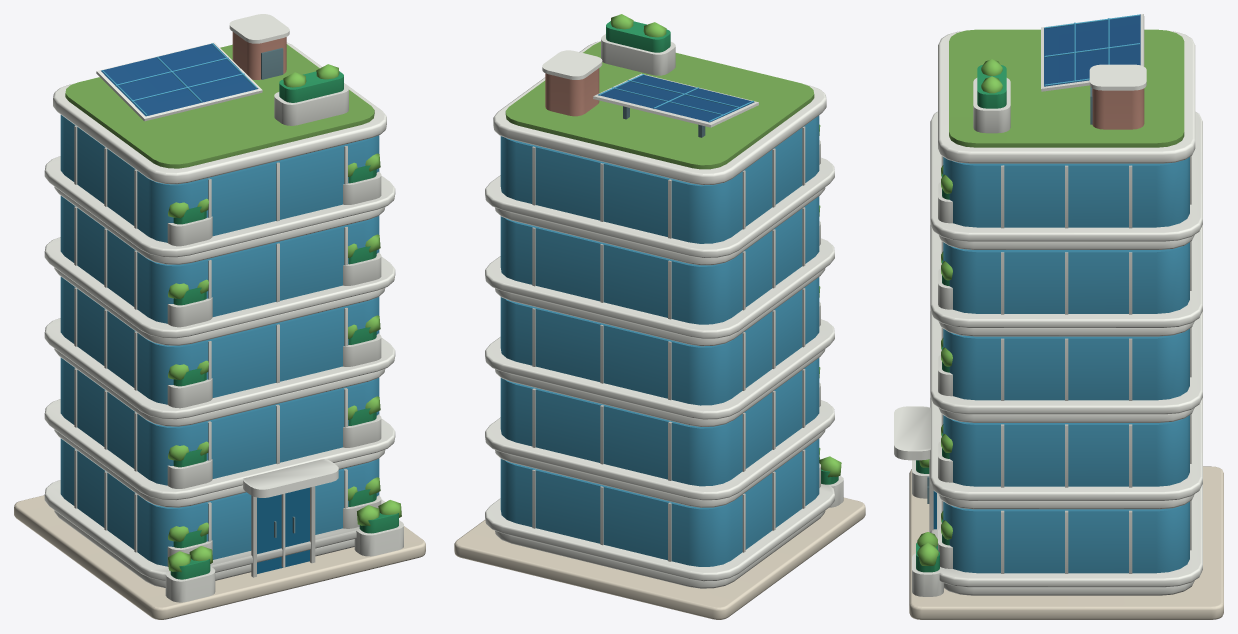
The model's file is townhouse-pink-low.glb.
The picture shows the model from 3 angles, left to right: view 1: azimuth 30°, elevation 25°; view 2: azimuth 150°, elevation 25°; view 3: azimuth 270°, elevation 25°; orthographic projection. The views are drawn at different scales.
Visible parts, largest first — view 1: continuous blue glazing, floor rim, green roof, paved building footprint, photovoltaic cells, planter foliage, shrub tip, recessed entrance, roof access, roof access hatch; view 2: continuous blue glazing, floor rim, green roof, paved building footprint, photovoltaic cells, roof access, planter foliage, shrub tip; view 3: continuous blue glazing, floor rim, green roof, paved building footprint, photovoltaic cells, shrub tip, roof access, planter foliage.
Part boxes in pixels (bbox=[...]): continuous blue glazing: bbox=[60, 43, 379, 566]; floor rim: bbox=[44, 14, 403, 602]; green roof: bbox=[65, 44, 374, 168]; paved building footprint: bbox=[14, 495, 425, 619]; photovoltaic cells: bbox=[101, 43, 258, 116]; planter foliage: bbox=[170, 71, 398, 579]; shrub tip: bbox=[168, 64, 401, 572]; recessed entrance: bbox=[257, 487, 309, 573]; roof access: bbox=[232, 32, 286, 79]; roof access hatch: bbox=[261, 48, 295, 537]; continuous blue glazing: bbox=[500, 74, 819, 566]; floor rim: bbox=[485, 34, 843, 588]; green roof: bbox=[505, 41, 814, 169]; paved building footprint: bbox=[454, 497, 865, 619]; photovoltaic cells: bbox=[598, 75, 754, 122]; roof access: bbox=[545, 68, 599, 116]; planter foliage: bbox=[606, 21, 838, 484]; shrub tip: bbox=[610, 14, 841, 477]; continuous blue glazing: bbox=[943, 14, 1189, 573]; floor rim: bbox=[894, 14, 1202, 596]; green roof: bbox=[949, 29, 1184, 147]; paved building footprint: bbox=[909, 466, 1223, 619]; photovoltaic cells: bbox=[1044, 14, 1140, 86]; shrub tip: bbox=[917, 59, 1002, 565]; roof access: bbox=[1092, 88, 1144, 129]; planter foliage: bbox=[916, 65, 1006, 572].
Size of the model in its own units: 2.72 by 4.56 by 2.66.
